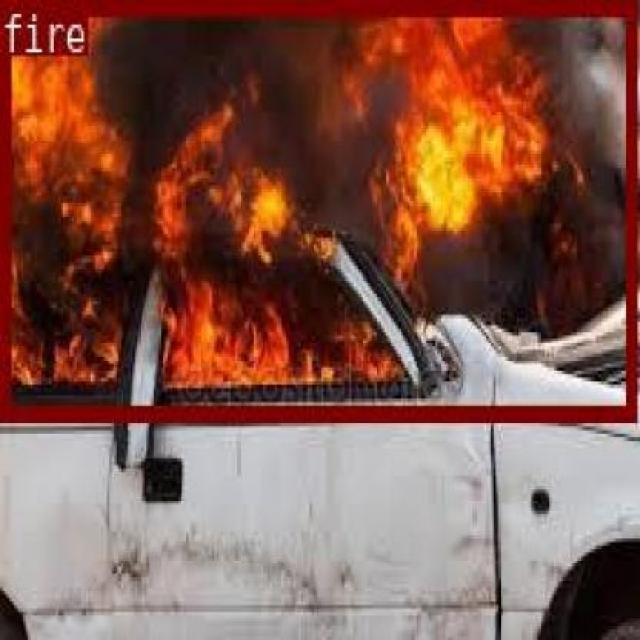fire: (0, 0, 632, 415)
